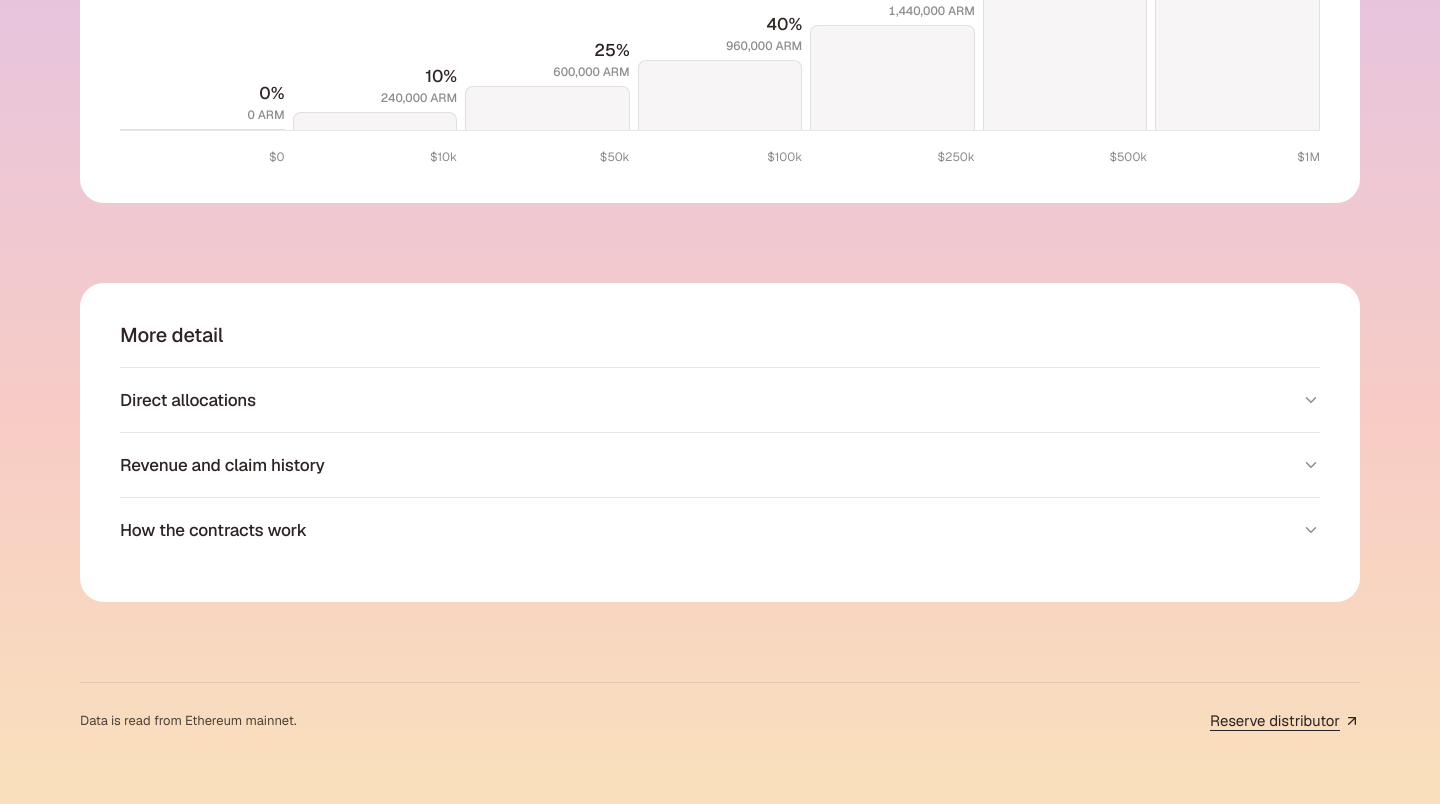
Test: ArmAllocation › lists direct allocations from Ethereum
This screenshot has width=1440, height=804.
(page scrolled)
Expected: the text "Direct allocations" is shown, [120,388,256,412]
Click the heading "Direct allocations": (188, 400) [120,389,1320,411]
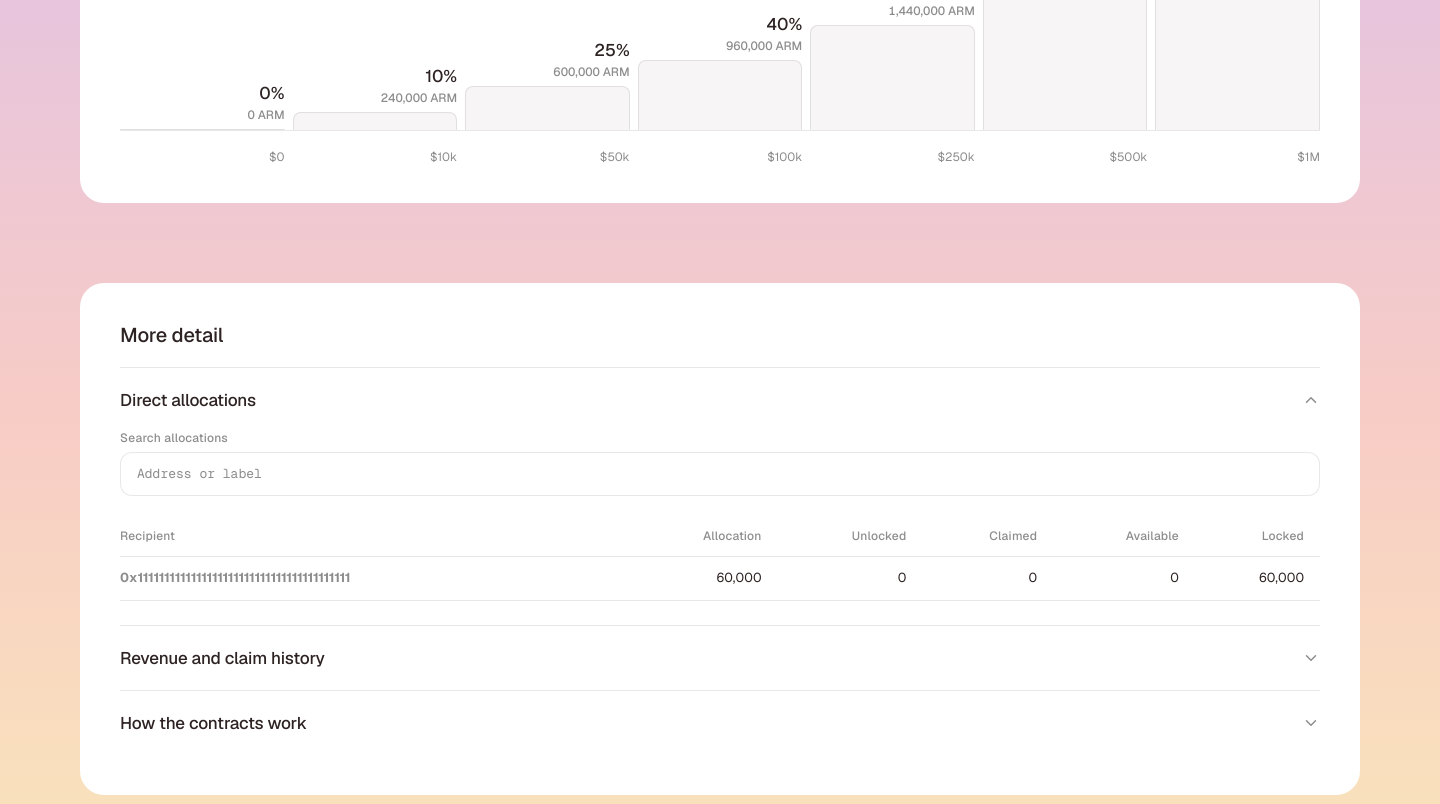
Expected: the column heading "0x1111111111111111111111111111111111111111" is shown, [120,557,625,600]
Expected: the 1st text "60,000" is shown, [625,557,778,600]
